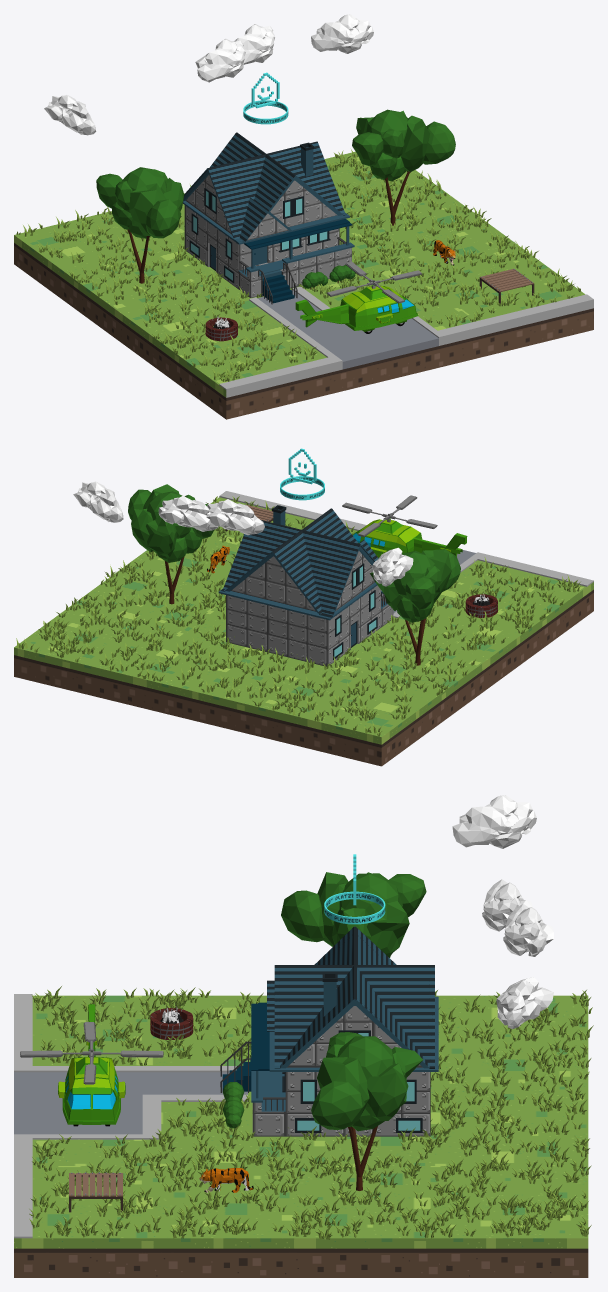
3 views of the same model, one above another, from view 1: azimuth 30°, elevation 25°; view 2: azimuth 150°, elevation 25°; view 3: azimuth 270°, elevation 25° (orthographic). The views are drawn at different scales.
Parts seen in each view (by area): view 1: Cube.006, Cube.078, Circle.012_Grass_0.192, Cube.007, tree, tree.001, VEHICLES_HELICOPTER, TYPE_PREMIUM, Cube.009, OBJRANDOM_CAMPFIRE; view 2: Cube.006, Cube.078, Circle.012_Grass_0.192, Cube.007, tree.001, tree, VEHICLES_HELICOPTER, TYPE_PREMIUM, OBJRANDOM_CAMPFIRE; view 3: Cube.006, Circle.012_Grass_0.192, Cube.078, tree, Cube.007, tree.001, VEHICLES_HELICOPTER, Cube.009, OBJRANDOM_CAMPFIRE, TYPE_PREMIUM, ANIMAL_TIGRE.
Boxes of the visible parts, x1,y1,x2,y2 form: Cube.006: [14, 151, 593, 419]; Cube.078: [183, 132, 354, 304]; Circle.012_Grass_0.192: [16, 149, 580, 381]; Cube.007: [44, 14, 373, 135]; tree: [352, 109, 455, 225]; tree.001: [96, 167, 184, 283]; VEHICLES_HELICOPTER: [295, 261, 422, 333]; TYPE_PREMIUM: [243, 72, 288, 124]; Cube.009: [479, 268, 534, 303]; OBJRANDOM_CAMPFIRE: [205, 316, 237, 341]; Cube.006: [14, 491, 593, 766]; Cube.078: [218, 505, 393, 666]; Circle.012_Grass_0.192: [16, 496, 580, 736]; Cube.007: [73, 481, 413, 586]; tree.001: [370, 549, 460, 665]; tree: [128, 484, 214, 604]; VEHICLES_HELICOPTER: [342, 495, 467, 558]; TYPE_PREMIUM: [280, 448, 324, 500]; OBJRANDOM_CAMPFIRE: [465, 592, 497, 617]; Cube.006: [14, 994, 588, 1277]; Circle.012_Grass_0.192: [29, 986, 593, 1239]; Cube.078: [220, 926, 438, 1136]; tree: [311, 1032, 422, 1190]; Cube.007: [452, 795, 553, 1029]; tree.001: [281, 872, 426, 957]; VEHICLES_HELICOPTER: [20, 1004, 163, 1126]; Cube.009: [69, 1172, 122, 1212]; OBJRANDOM_CAMPFIRE: [150, 1006, 193, 1039]; TYPE_PREMIUM: [324, 854, 385, 924]; ANIMAL_TIGRE: [199, 1168, 253, 1192].
Size of the model in its own units: 4071 by 2300 by 4040.
39 materials, 6 textured.
